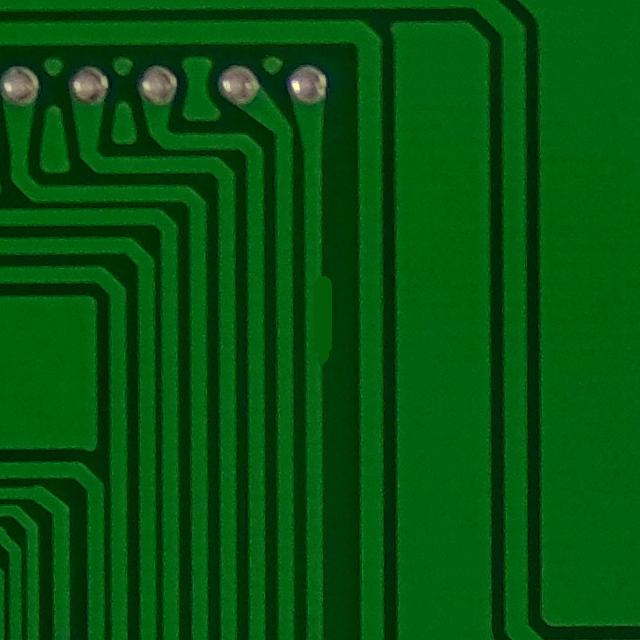spur: (296, 259, 344, 381)
